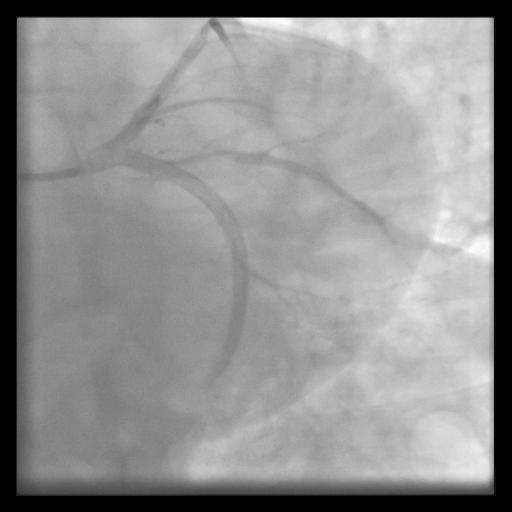Stenosis: (181, 147, 235, 168)
